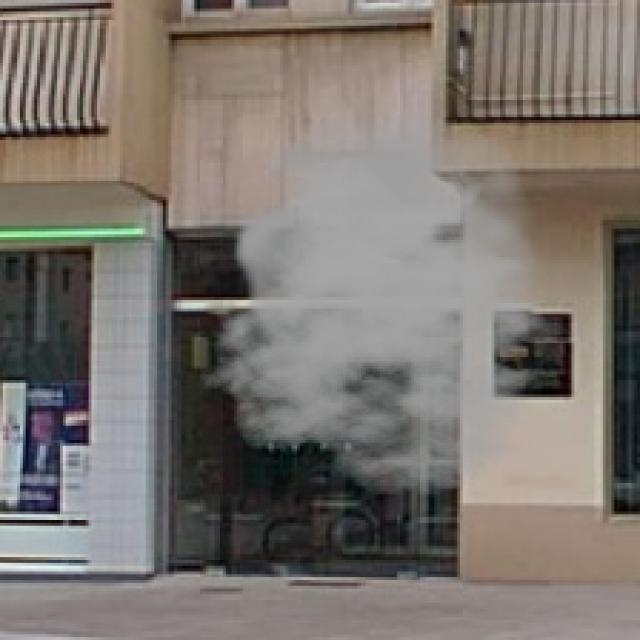Smoke: (200, 112, 589, 497)
